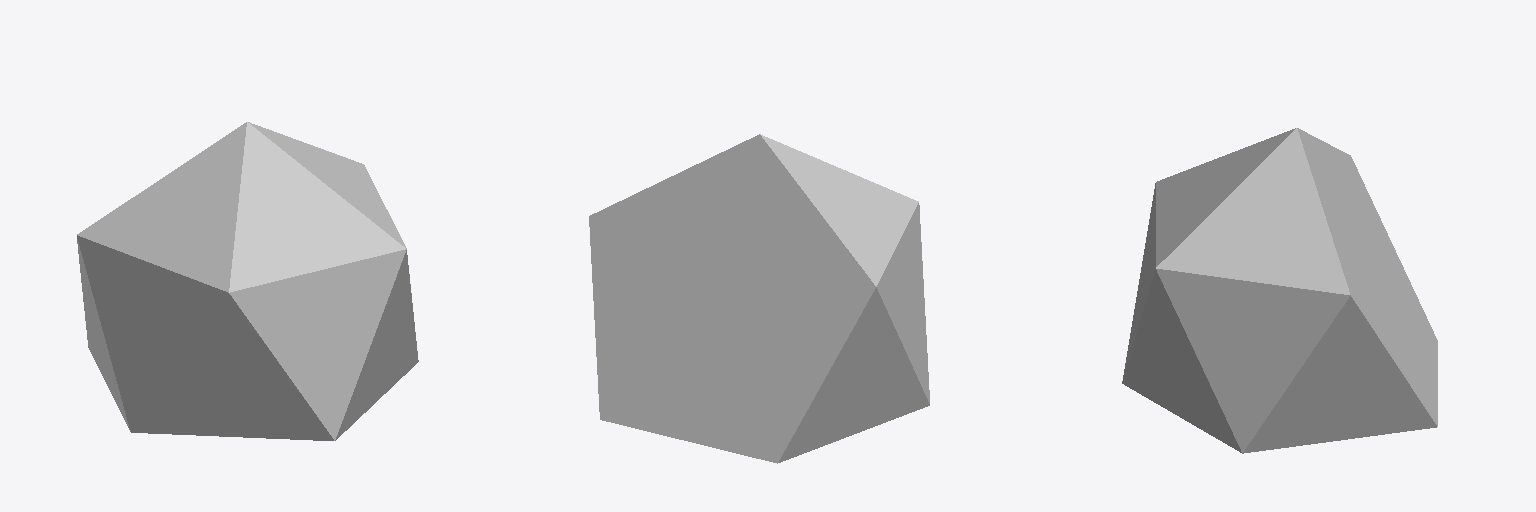
File: MetabiDiminishedIcosahedron.obj
3 views of the same model, side by side, from view 1: azimuth 30°, elevation 25°; view 2: azimuth 150°, elevation 25°; view 3: azimuth 270°, elevation 25° (orthographic).
Visible parts, largest first — view 1: MetaBiDiminishedIcosahedron; view 2: MetaBiDiminishedIcosahedron; view 3: MetaBiDiminishedIcosahedron.
Part boxes in pixels (x1,y1,x2,y2): MetaBiDiminishedIcosahedron: (77, 122, 418, 440); MetaBiDiminishedIcosahedron: (589, 134, 929, 463); MetaBiDiminishedIcosahedron: (1122, 128, 1437, 453).
Bounding box in the file's own units: 1.21 × 1.03 × 1.15.